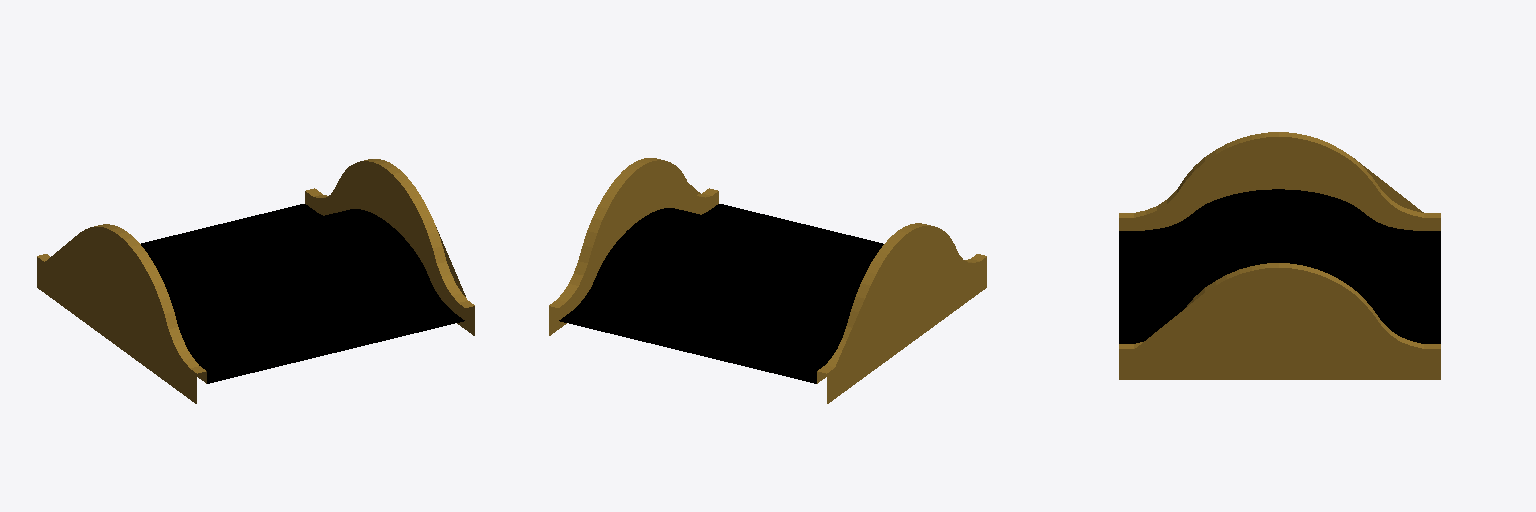
Rendered from bHill_A_3x3.obj.
3 renders of one model, left to right at view 1: azimuth 30°, elevation 25°; view 2: azimuth 150°, elevation 25°; view 3: azimuth 270°, elevation 25°, orthographic.
Parts seen in each view (by area): view 1: bHill_A_3x3:bHill_A_3x3; view 2: bHill_A_3x3:bHill_A_3x3; view 3: bHill_A_3x3:bHill_A_3x3.
Part boxes in pixels (left/top/right/bottom): bHill_A_3x3:bHill_A_3x3: left=37, top=159, right=474, bottom=403; bHill_A_3x3:bHill_A_3x3: left=549, top=158, right=986, bottom=403; bHill_A_3x3:bHill_A_3x3: left=1119, top=132, right=1440, bottom=379.
Bounding box in the file's own units: 3 × 1.16 × 3.